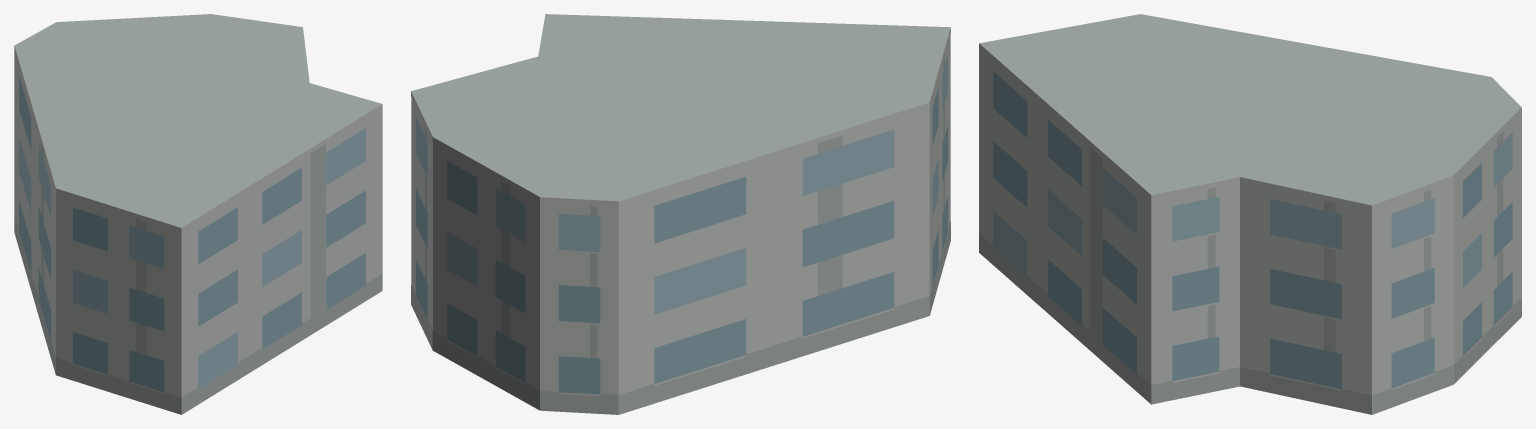
File: survey-upis-32865600.glb
3 renders of one model, left to right at view 1: azimuth 30°, elevation 25°; view 2: azimuth 150°, elevation 25°; view 3: azimuth 270°, elevation 25°, orthographic. The views are drawn at different scales.
Parts seen in each view (by area): view 1: survey-upis-32865600.tmp; view 2: survey-upis-32865600.tmp; view 3: survey-upis-32865600.tmp.
Part boxes in pixels (<box>): survey-upis-32865600.tmp: <box>14,14,382,414</box>; survey-upis-32865600.tmp: <box>411,14,950,414</box>; survey-upis-32865600.tmp: <box>979,14,1521,414</box>.
Size of the model in its own units: 17.96 by 9.15 by 21.51.
